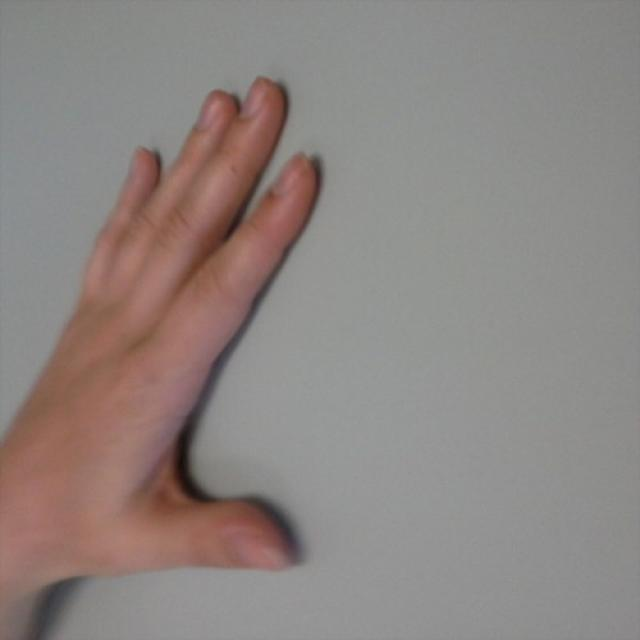paper: (96, 74, 324, 574)
